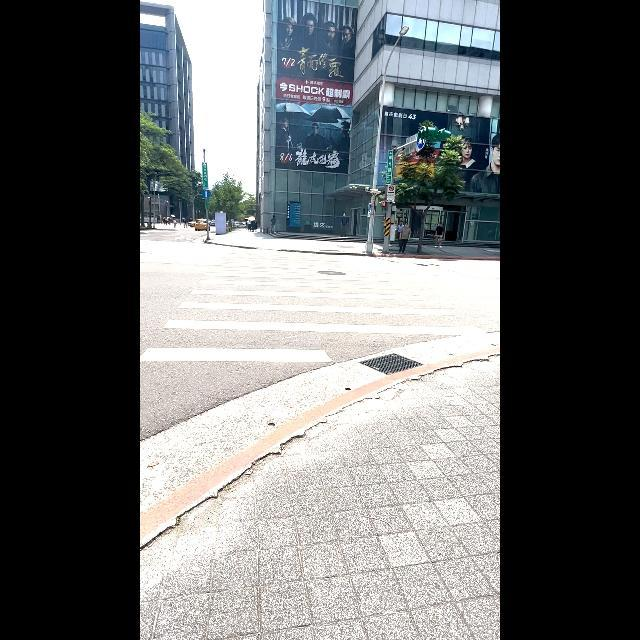sidewalk: (140, 250, 485, 362)
